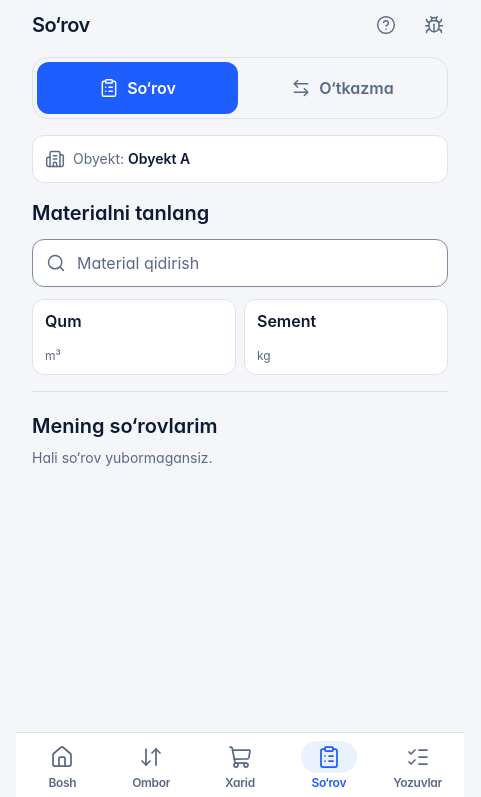
Test: /tg/request — So‘rov › xato miqdor — saqlanmaydi
Click the button "Sement kg" at (346, 337), box [244,299,448,375]
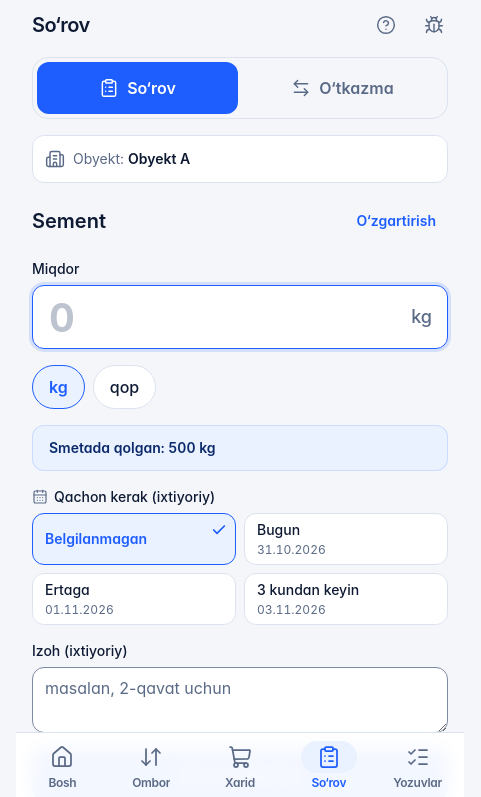
Type "abc" into the field labelled "Miqdor" at (240, 317), box [32,285,448,349]
(page scrolled)
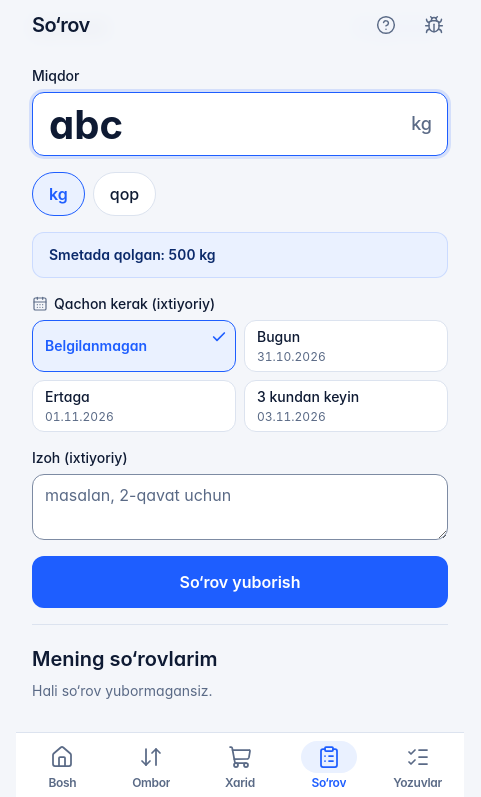
Click the button "So‘rov yuborish" at (240, 582), box [32,556,448,608]
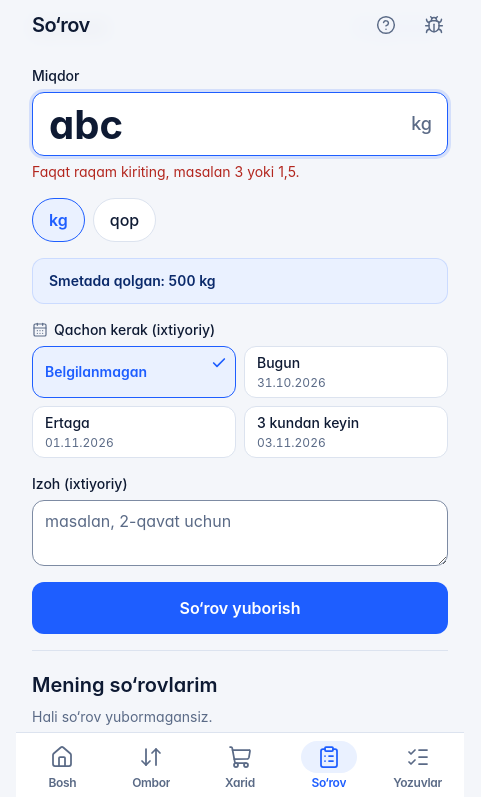
Now the text "Faqat raqam kiriting, masalan 3 yoki 1,5." is shown, box [32,163,300,180]
